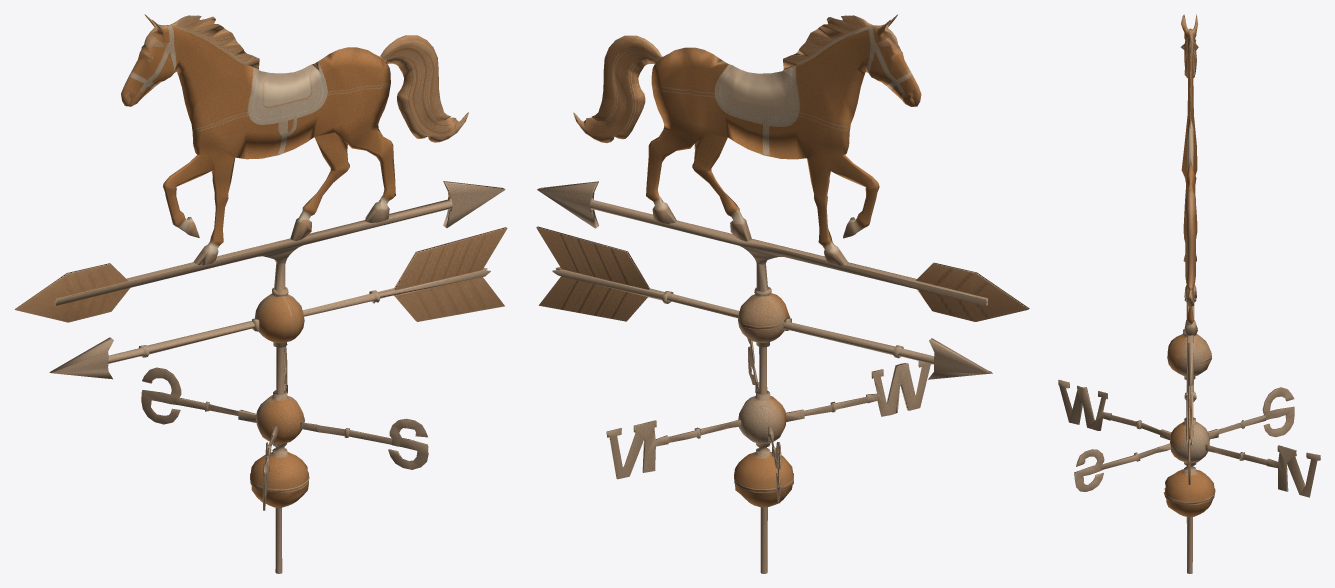
File: weather_vane.glb
3 renders of one model, left to right at view 1: azimuth 30°, elevation 25°; view 2: azimuth 150°, elevation 25°; view 3: azimuth 270°, elevation 25°, orthographic. The views are drawn at different scales.
Visible parts, largest first — view 1: weather_vane; view 2: weather_vane; view 3: weather_vane.
Part boxes in pixels (box(x1,y1,x2,y2)): weather_vane: box(14, 14, 507, 573); weather_vane: box(536, 14, 1029, 573); weather_vane: box(1058, 14, 1320, 573).
Bounding box in the file's own units: 0.6569 × 0.75 × 0.3542.
Materials: 1 (1 with a texture image).
